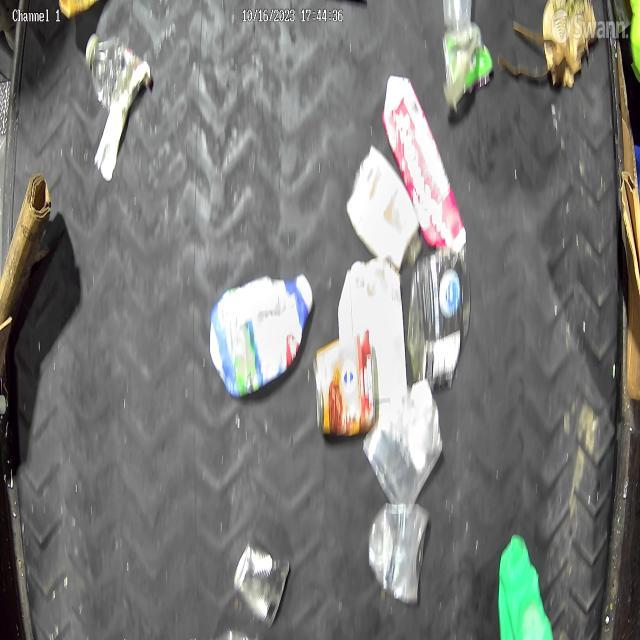can: (366, 494, 433, 606), (315, 332, 380, 436), (235, 530, 287, 624)
non_white_jug: (209, 274, 315, 394), (496, 535, 554, 640)
plastic_bottle: (84, 31, 141, 111)
